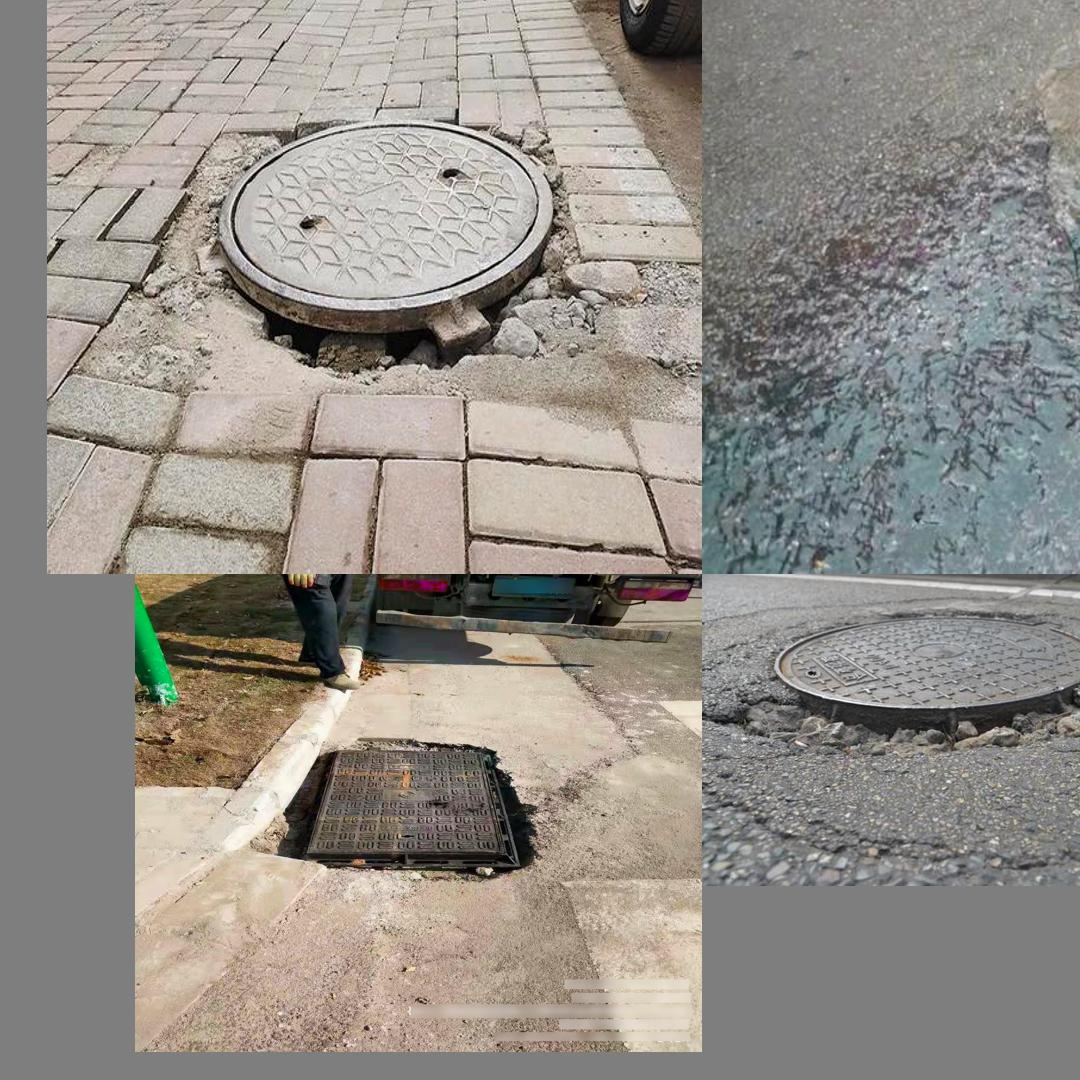circle: (86, 119, 640, 393), (719, 601, 1080, 765), (273, 743, 537, 877), (1046, 0, 1080, 401)
